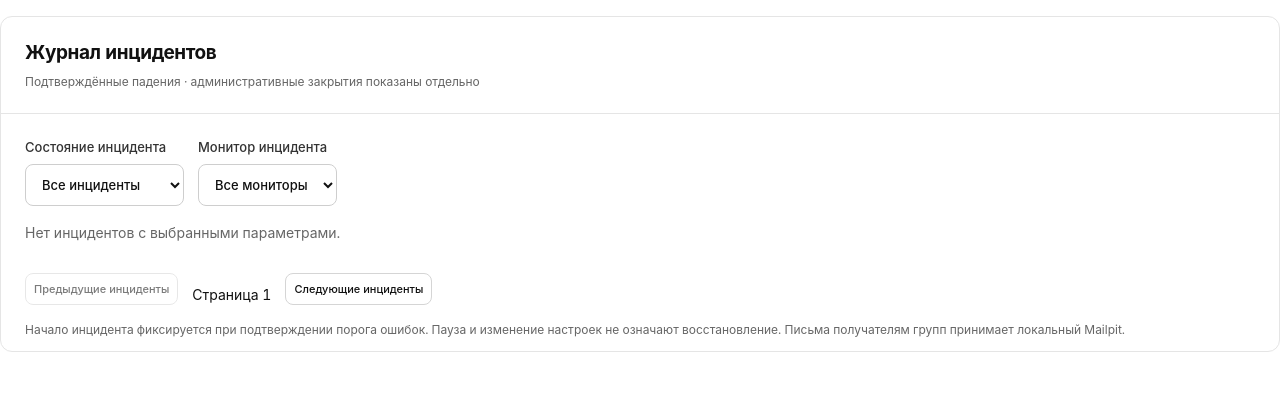
it: filters and paginates the real API and shows failures
The width and height of the screenshot is (1280, 404).
Check: the text "Нет инцидентов с выбранными параметрами." is shown, box [25,224,340,241]
Click the button "Следующие инциденты": click(359, 289) [285,273,432,305]
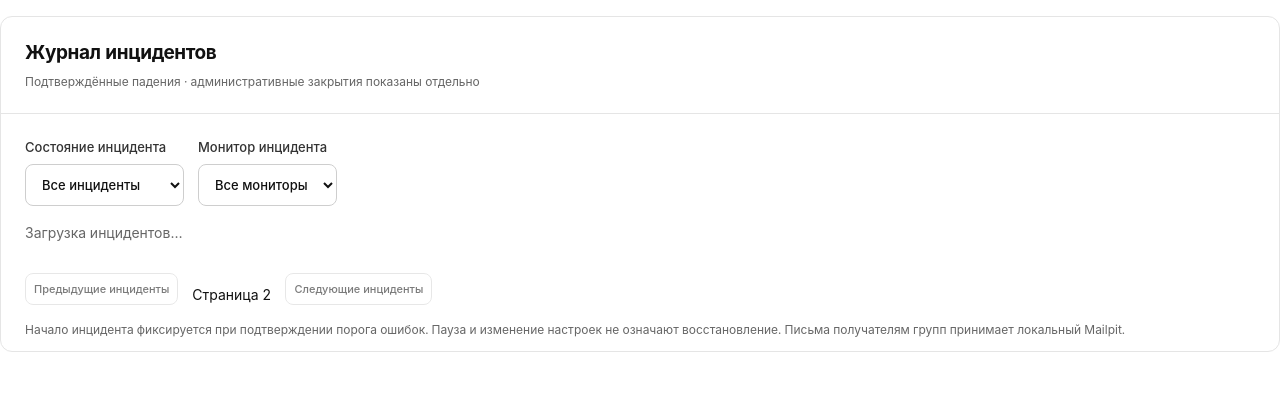
Check: the text "Страница 2" is shown, box [192,284,271,305]
Select "Открыт (OPEN)" in the dropdown labelled "Состояние инцидента": (104, 185) [25,164,184,206]
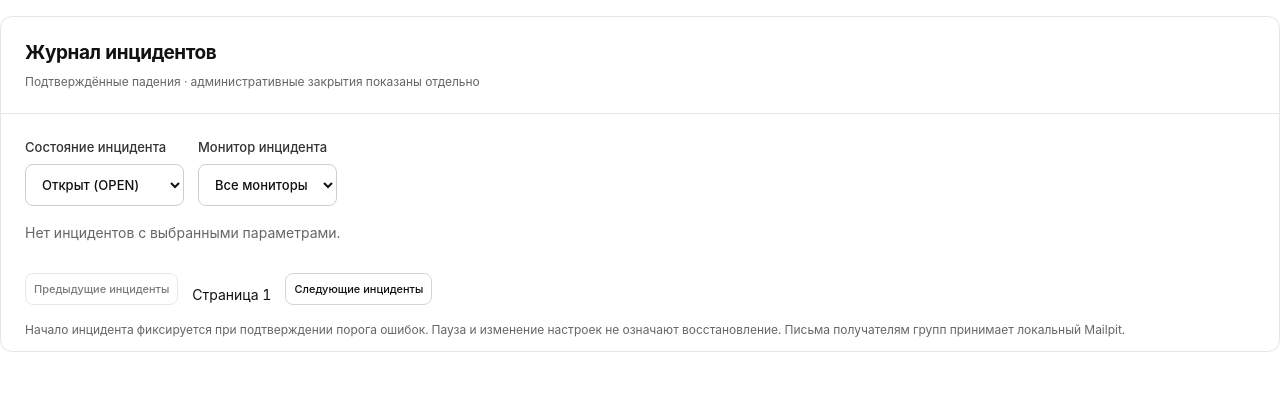
Check: the text "Страница 1" is shown, box [192,284,271,305]
Select "Закрыт (CLOSED)" in the dropdown labelled "Состояние инцидента": (104, 185) [25,164,184,206]
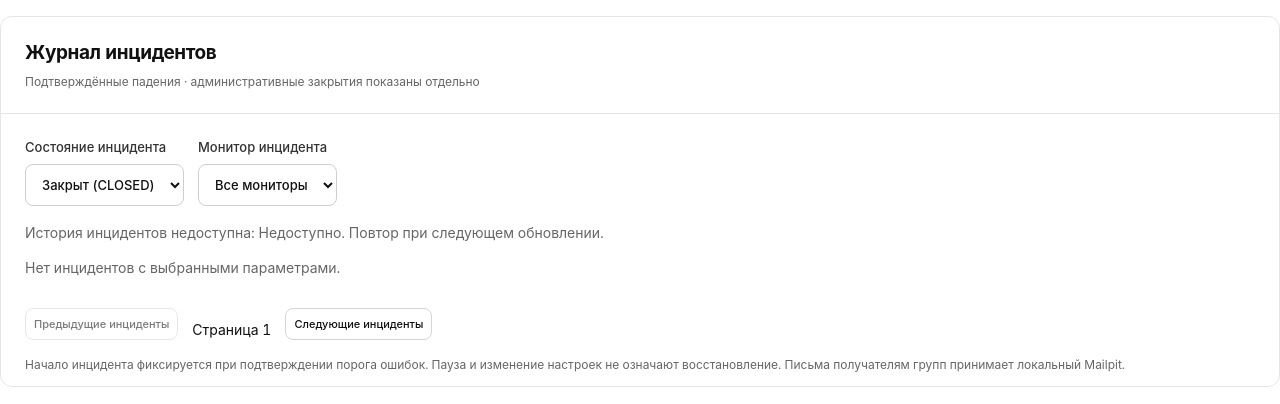
Check: the message shows "Недоступно", box [258,224,341,241]
